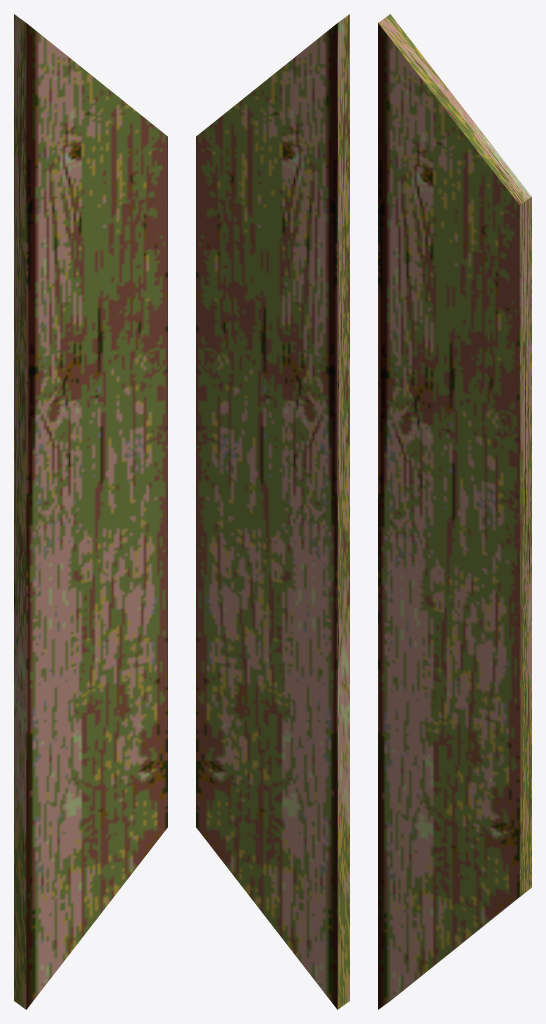
The model's file is CratePiece_1.fbx.
3 renders of one model, left to right at view 1: azimuth 30°, elevation 25°; view 2: azimuth 150°, elevation 25°; view 3: azimuth 330°, elevation 25°, orthographic.
Parts seen in each view (by area): view 1: Cube.002; view 2: Cube.002; view 3: Cube.002.
Part boxes in pixels (x1,y1,x2,y2): Cube.002: [14, 14, 167, 1009]; Cube.002: [196, 14, 349, 1009]; Cube.002: [378, 14, 531, 1009].
Size of the model in its own units: 12.85 by 85.66 by 1.93.
Materials: 1 (1 with a texture image).
